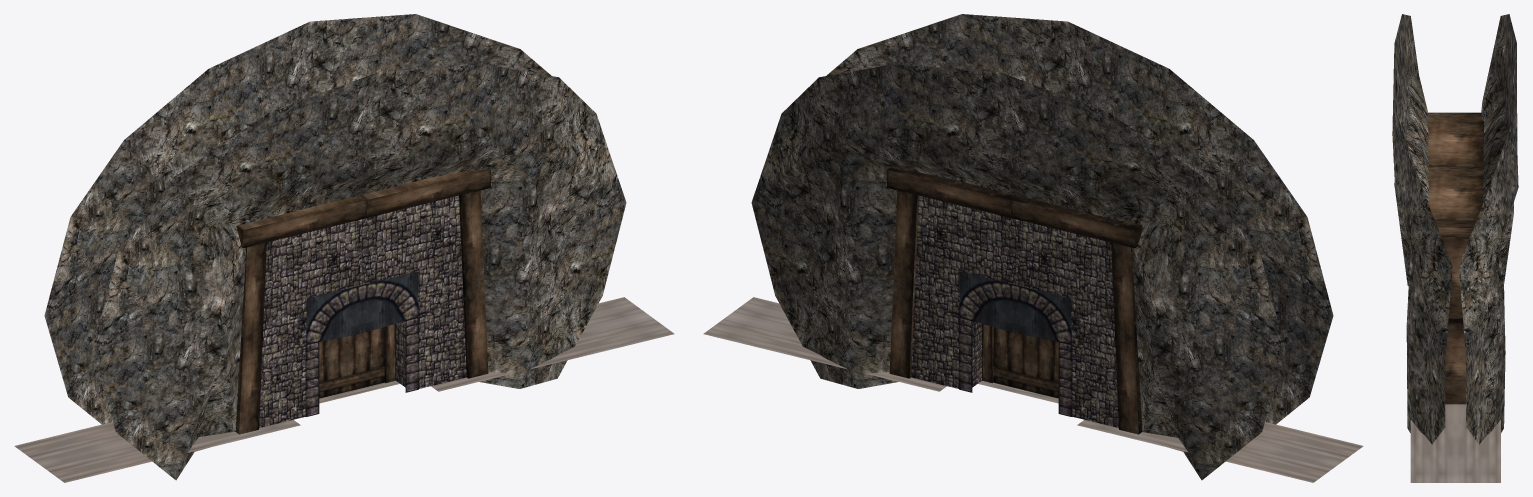
Rendered from pir_m_prp_cav_fortDoor.fbx.
3 views of the same model, side by side, from view 1: azimuth 30°, elevation 25°; view 2: azimuth 150°, elevation 25°; view 3: azimuth 270°, elevation 25° (orthographic). The views are drawn at different scales.
Visible parts, largest first — view 1: rockwall_front, rockwall_back, wall_front, footprint, arch_keystone_front, minesupport_1, minesupport_3, minesupport_4, door_front, door_frame; view 2: rockwall_back, rockwall_front, wall_back, footprint, arch_keystone_back, minesupport_1, minesupport_3, minesupport_4, door_back, door_frame; view 3: rockwall_back, rockwall_front, minesupport_1, footprint, minesupport_4.
Part boxes in pixels (x1,y1,x2,y2): rockwall_front: (92, 64, 626, 480); rockwall_back: (44, 14, 551, 424); wall_front: (259, 195, 466, 427); footprint: (14, 297, 674, 482); arch_keystone_front: (305, 271, 418, 416); minesupport_1: (236, 169, 490, 248); minesupport_3: (235, 242, 266, 434); minesupport_4: (459, 190, 488, 378); door_front: (319, 327, 384, 398); door_frame: (384, 324, 395, 383); rockwall_back: (751, 64, 1285, 480); rockwall_front: (826, 14, 1333, 424); wall_back: (911, 195, 1118, 427); footprint: (703, 297, 1363, 482); arch_keystone_back: (959, 271, 1072, 416); minesupport_1: (887, 167, 1142, 248); minesupport_3: (1111, 242, 1142, 434); minesupport_4: (889, 190, 918, 378); door_back: (993, 327, 1058, 398); door_frame: (982, 324, 993, 383); rockwall_back: (1459, 14, 1518, 444); rockwall_front: (1392, 14, 1452, 444); minesupport_1: (1426, 112, 1483, 236); footprint: (1410, 404, 1500, 482); minesupport_4: (1441, 237, 1469, 404).
Size of the model in its own units: 10000 by 5738 by 2006.
Materials: 3 (3 with a texture image).
